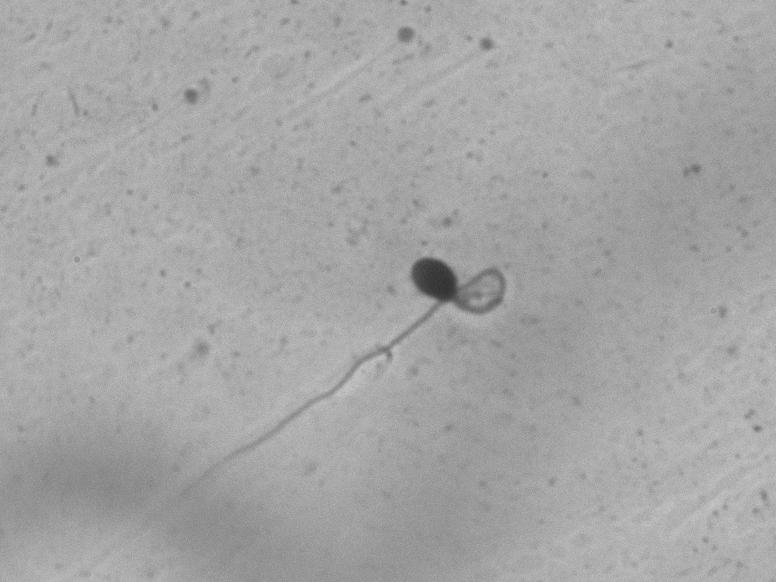Abnormal: (116, 213, 555, 510)
